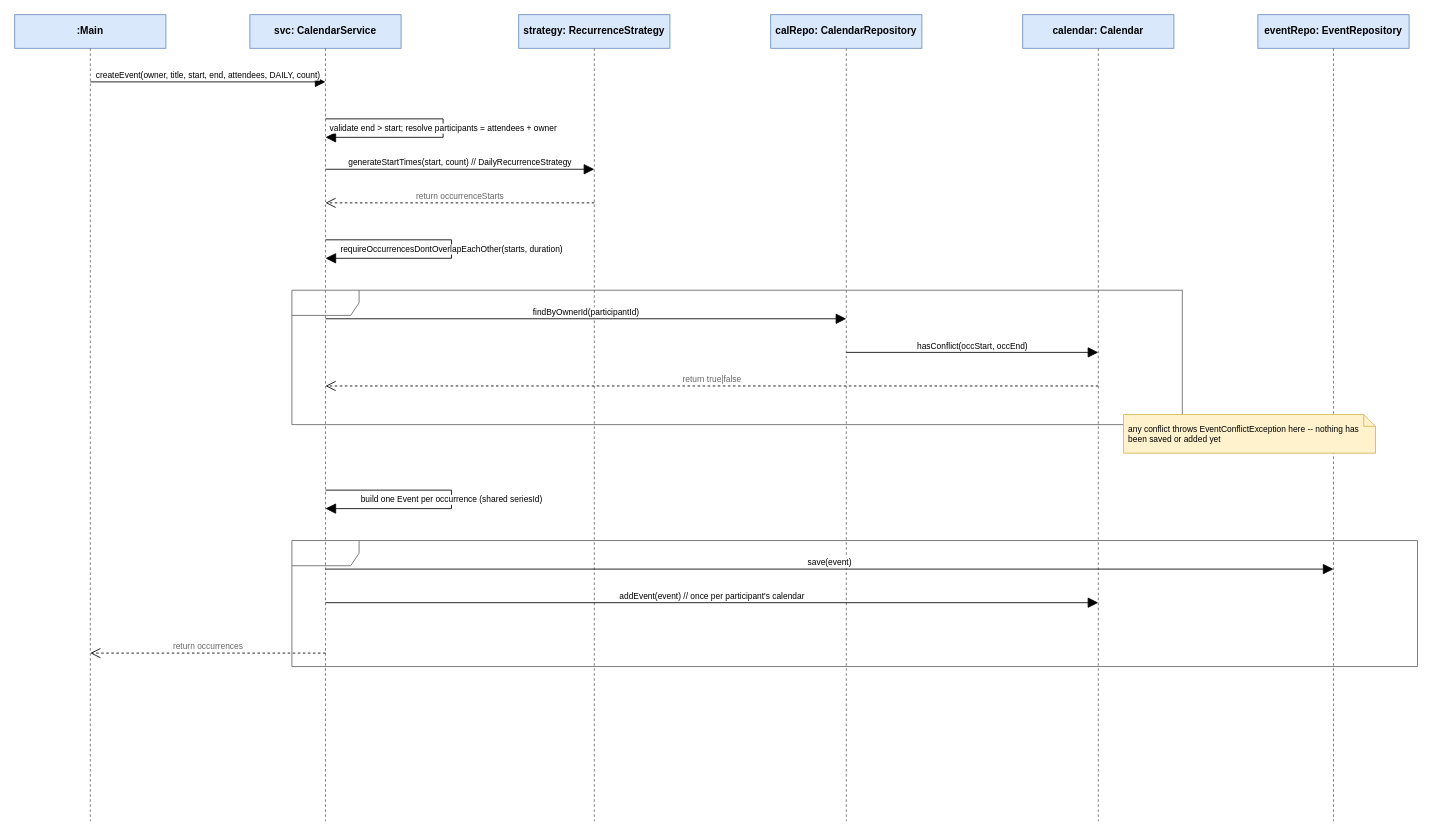
Image size: 1432x837. Some labels were removed from this diagram. Each missing label, with the box of its shape:
loop [each occurrence -- commit]: (291, 540, 1418, 667)
loop [each occurrence x each participant -- plan only, no mutation yet]: (291, 289, 1182, 425)
